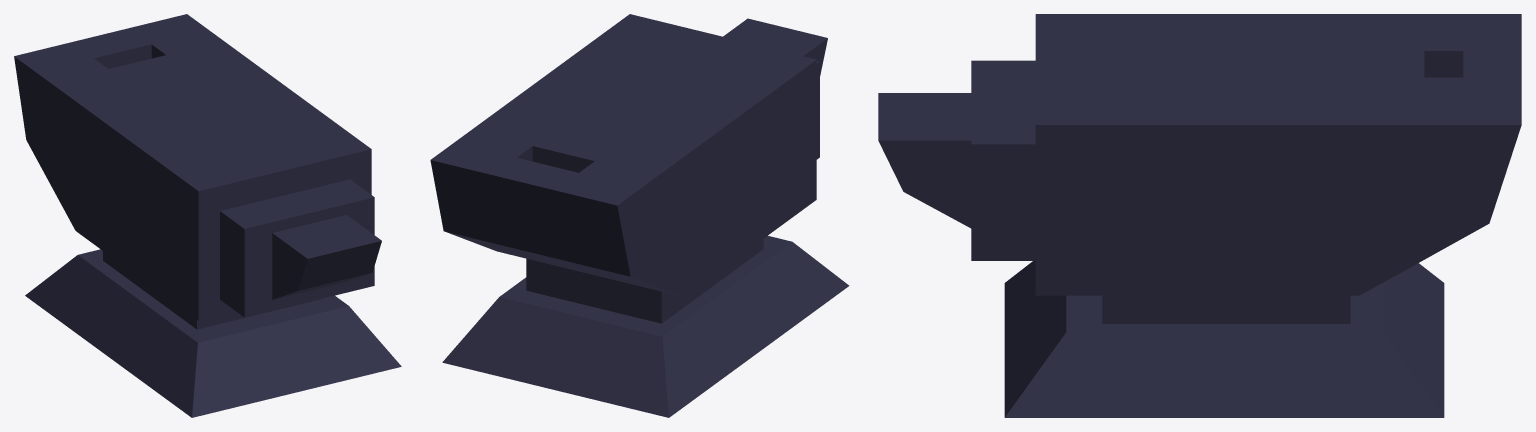
Rendered from Anvil.fbx.
3 views of the same model, side by side, from view 1: azimuth 30°, elevation 25°; view 2: azimuth 150°, elevation 25°; view 3: azimuth 270°, elevation 25° (orthographic). The views are drawn at different scales.
Parts seen in each view (by area): view 1: Anvil_Geo; view 2: Anvil_Geo; view 3: Anvil_Geo.
Boxes of the visible parts, box(x1,y1,x2,y2) form: Anvil_Geo: box(14, 14, 401, 417); Anvil_Geo: box(430, 14, 849, 417); Anvil_Geo: box(878, 14, 1521, 417).
Size of the model in its own units: 27.13 by 26.35 by 54.68.
